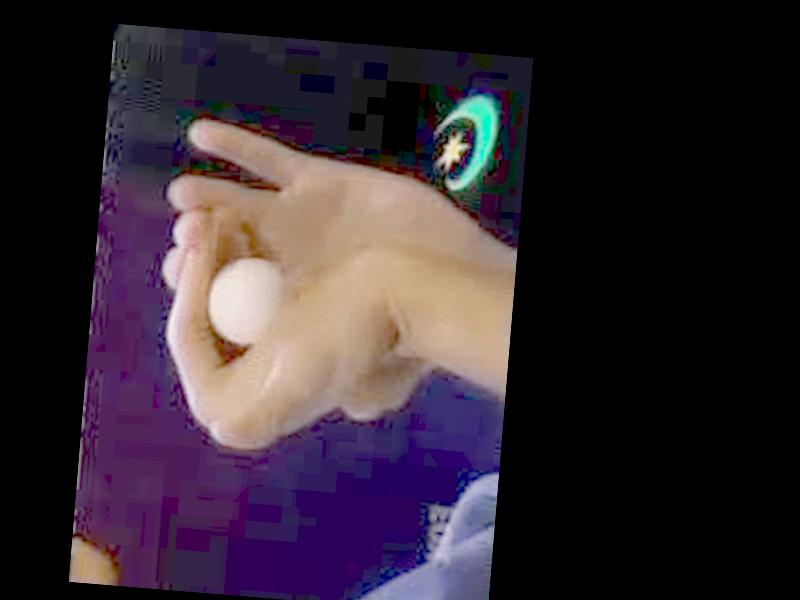Eggs: (203, 253, 279, 349)
